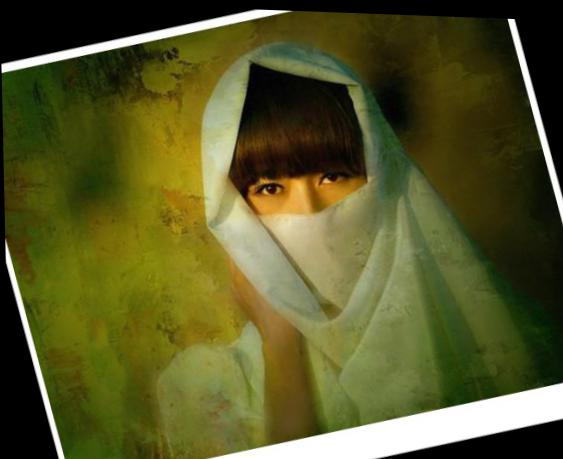WRONG: (229, 133, 392, 298)
